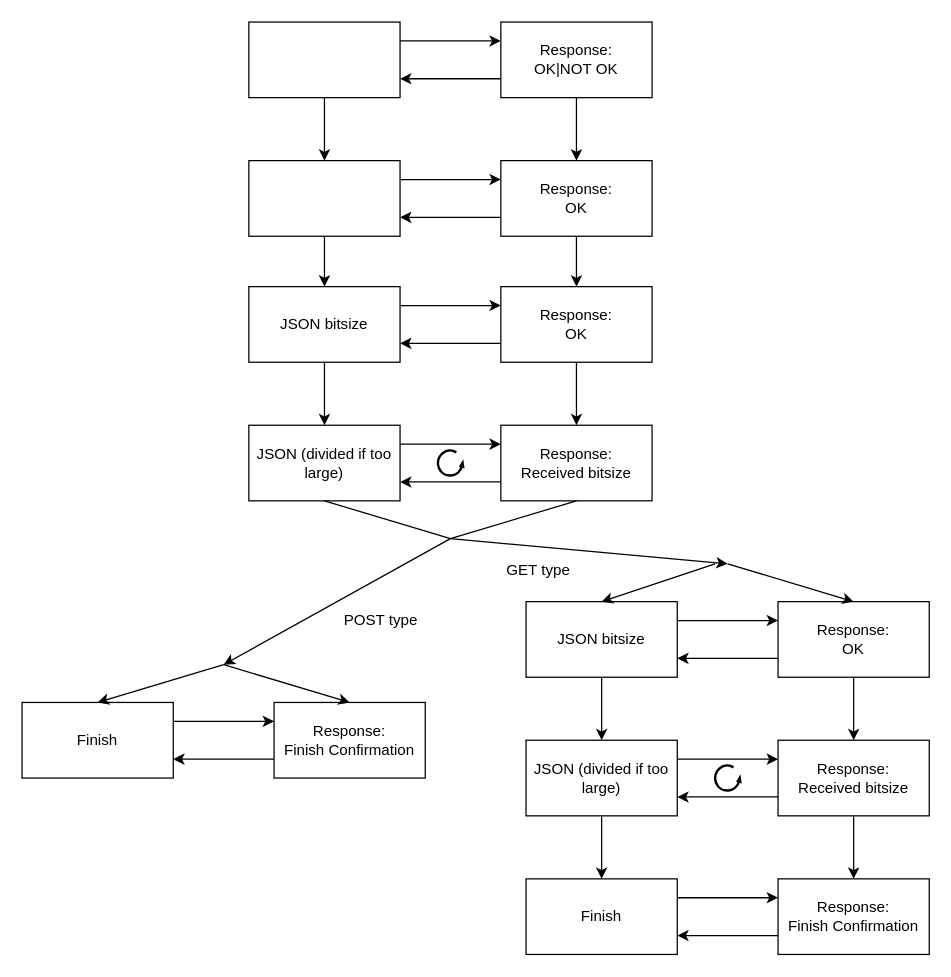
Image size: 951x977. Some labels were removed from this diagram. Each missing label, with the centre of its shape:
Directive (request|shutdown): the point at 324,197
Identification (admin|client): the point at 324,59
